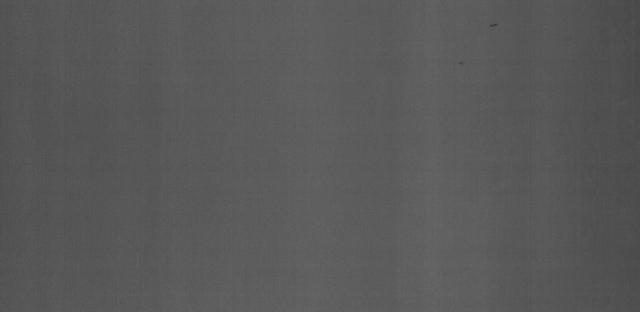inclusion: (485, 9, 508, 30), (450, 50, 473, 68)
